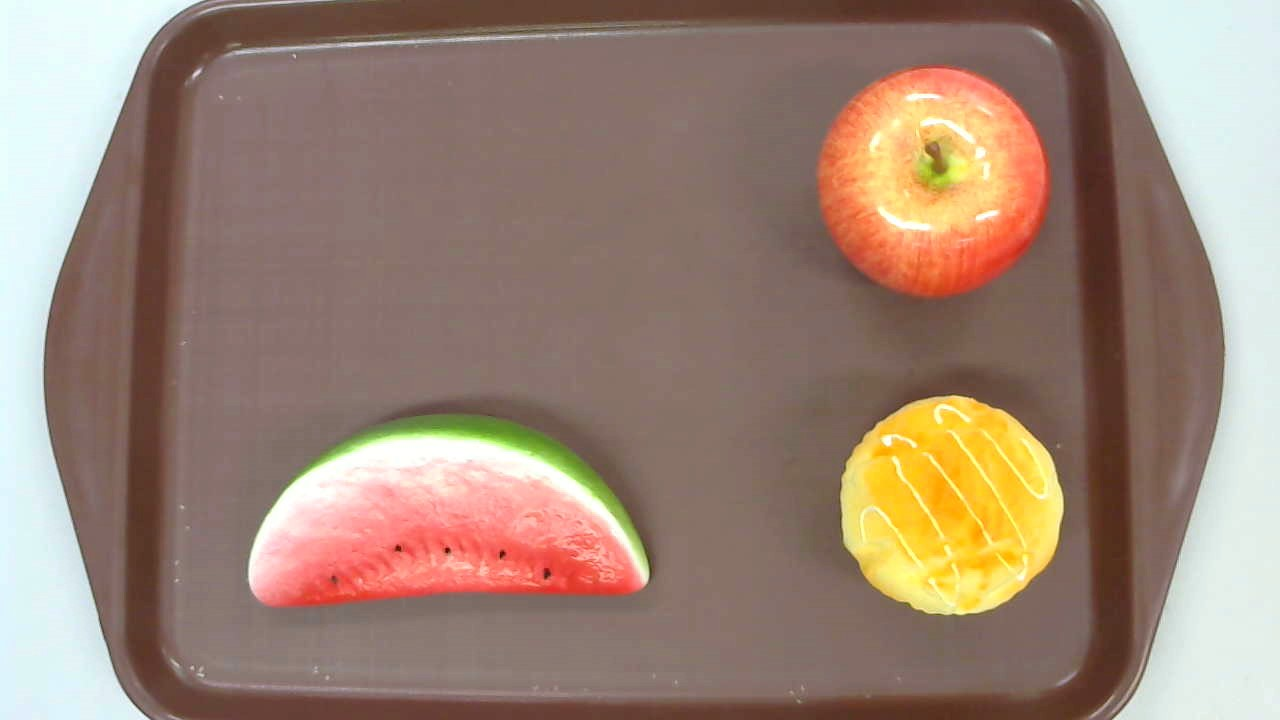cupcake: (838, 394, 1063, 615)
red apple: (815, 64, 1051, 300)
water melon: (247, 411, 651, 609)
